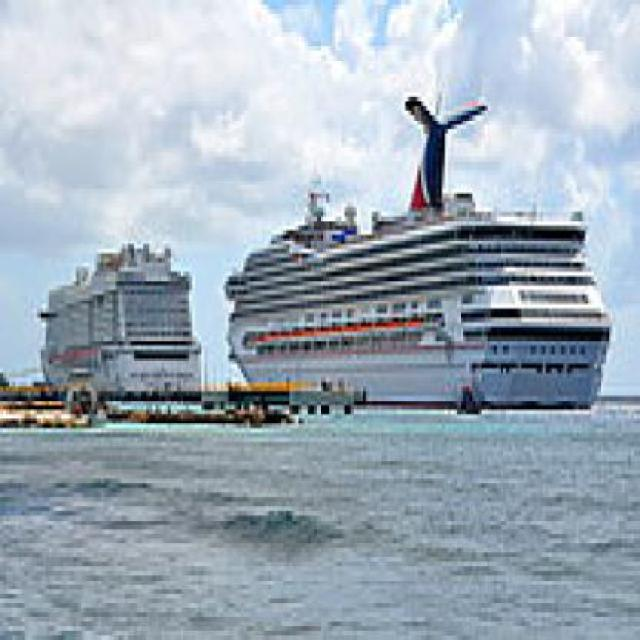cruise: (211, 180, 623, 420), (31, 222, 211, 420)
